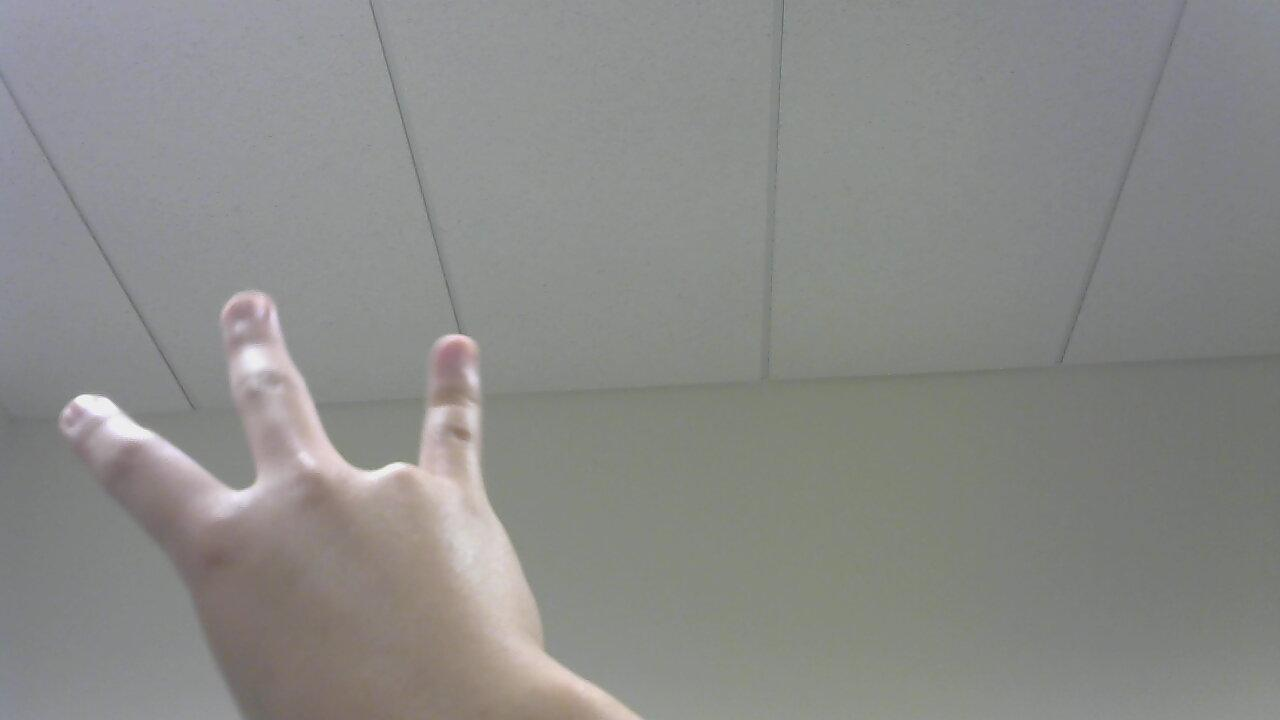hands: (28, 250, 639, 720)
